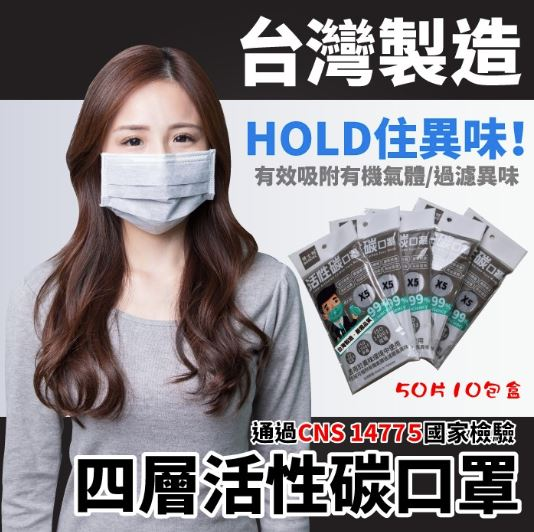mask: (100, 149, 216, 235)
